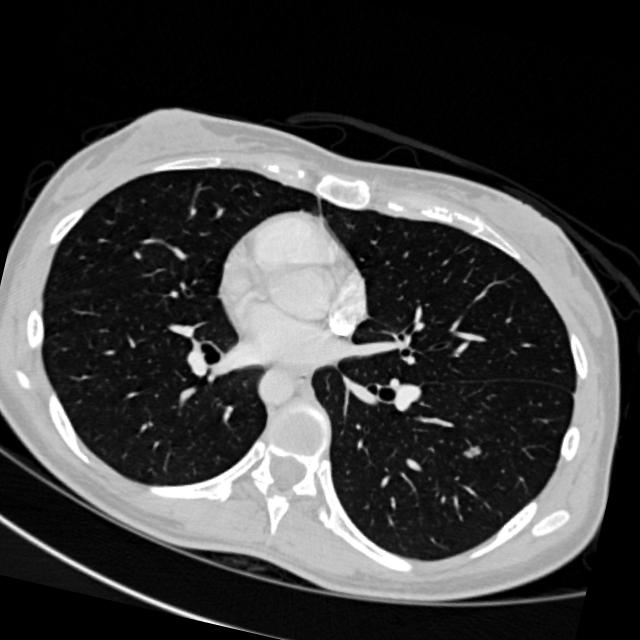nodule: (456, 432, 492, 468)
